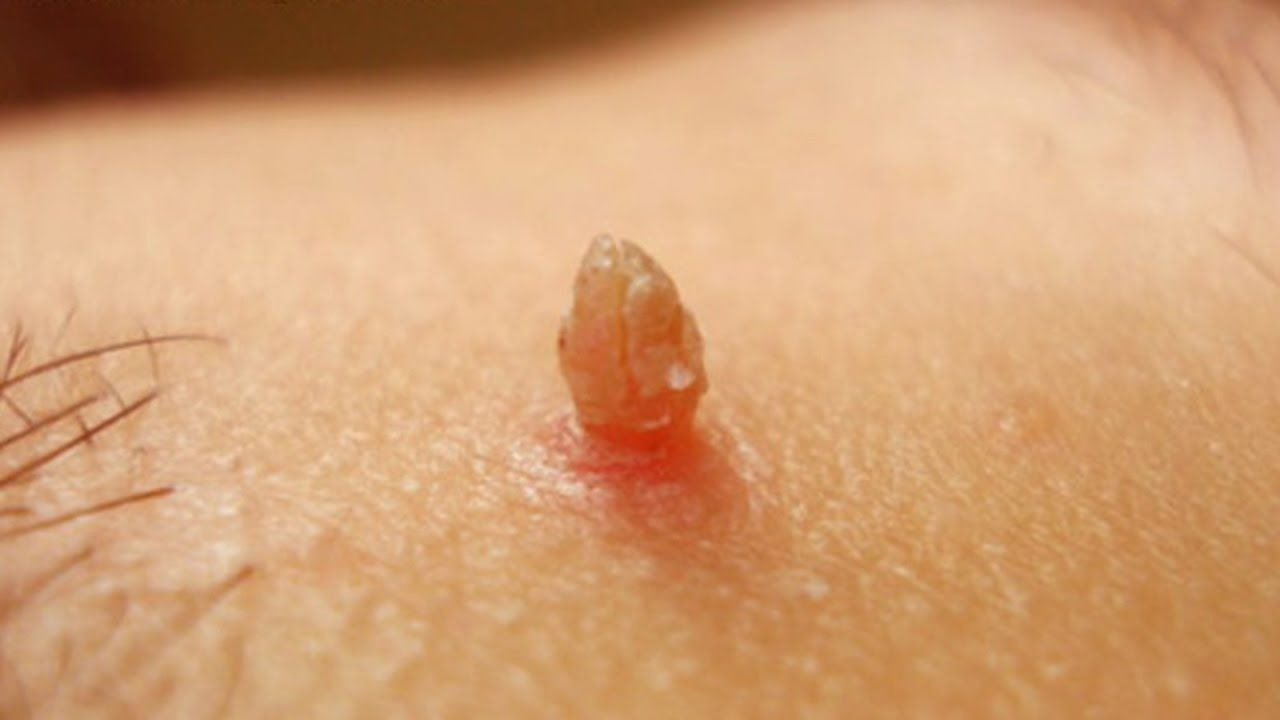Warts: (528, 208, 736, 478)
